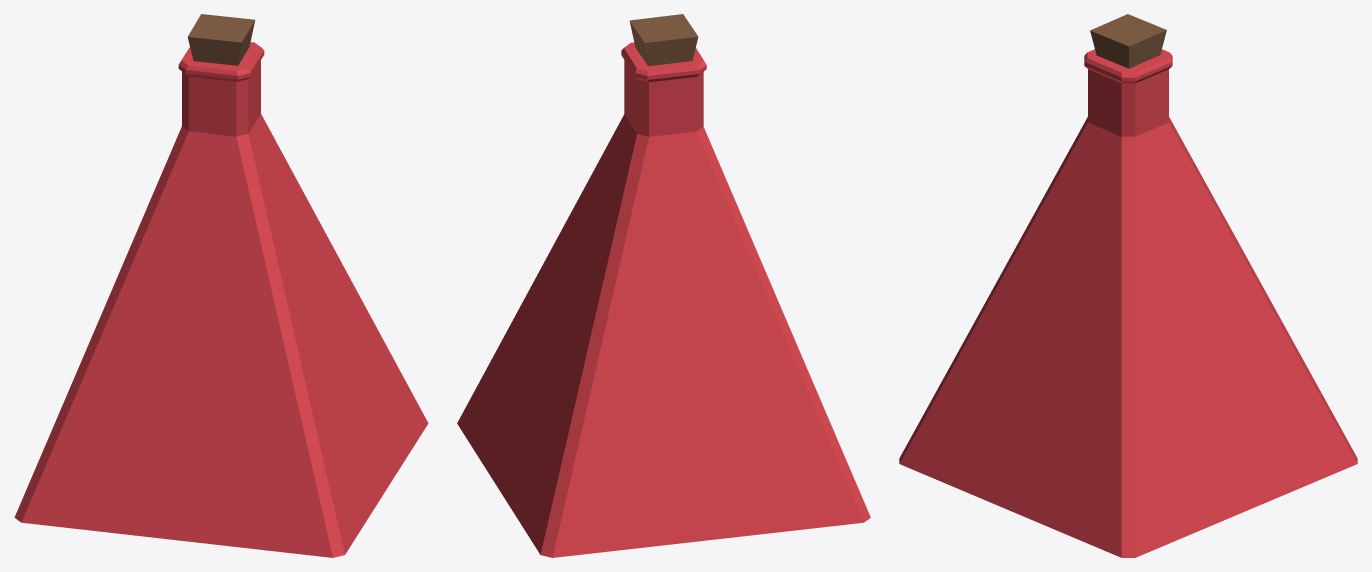
File: Potion_04_Red.fbx
3 renders of one model, left to right at view 1: azimuth 30°, elevation 25°; view 2: azimuth 150°, elevation 25°; view 3: azimuth 270°, elevation 25°, orthographic. The views are drawn at different scales.
Parts seen in each view (by area): view 1: Cone.002, Cube, Cube.001; view 2: Cone.002, Cube, Cube.001; view 3: Cone.002, Cube, Cube.001.
Part boxes in pixels (box(x1,y1,x2,y2)): Cone.002: box(14, 114, 428, 557); Cube: box(178, 42, 264, 136); Cube.001: box(187, 14, 255, 65); Cone.002: box(457, 114, 870, 557); Cube: box(621, 42, 706, 136); Cube.001: box(629, 14, 698, 66); Cone.002: box(899, 117, 1357, 557); Cube: box(1084, 49, 1172, 136); Cube.001: box(1090, 14, 1166, 68).
Bounding box in the file's own units: 31.08 × 32.26 × 31.08.
